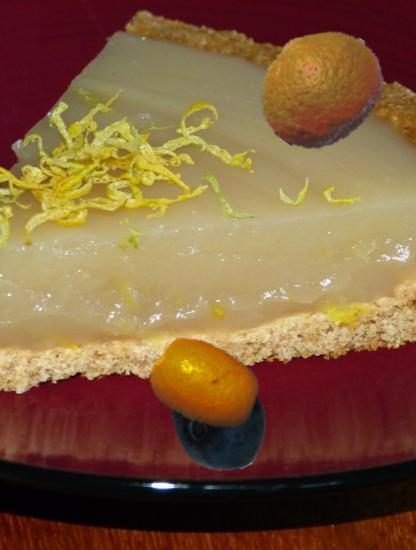Blueberry: (173, 375, 272, 474)
Kumquats: (148, 328, 261, 441)
Mandarine: (258, 25, 386, 153)
